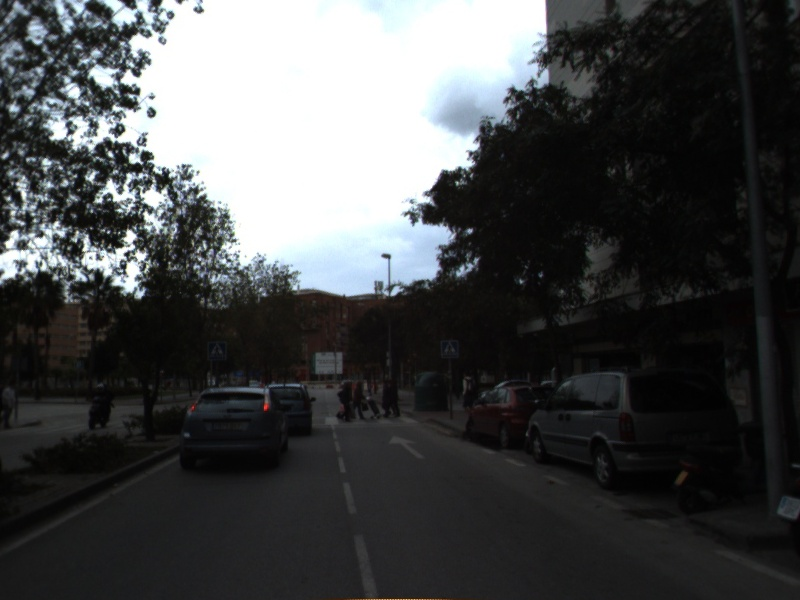STRAIGHT: (386, 433, 428, 461)
